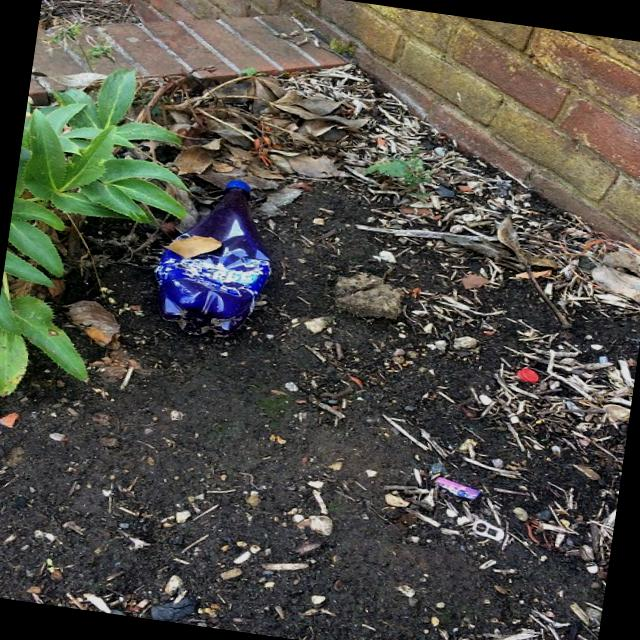Trash: (154, 171, 288, 334), (431, 469, 484, 505), (514, 362, 544, 390)
